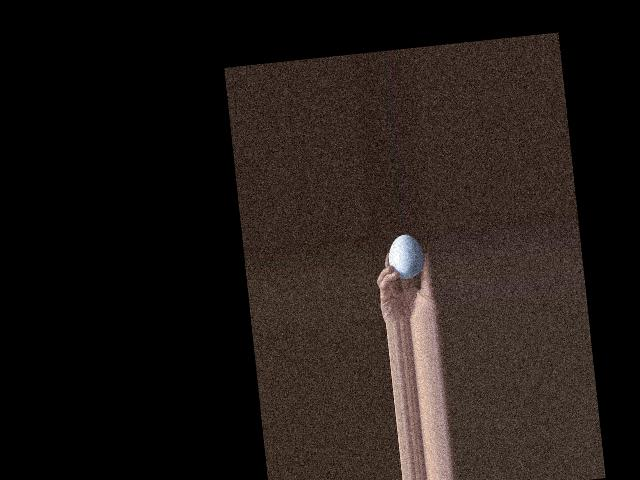egg: (385, 232, 425, 280)
